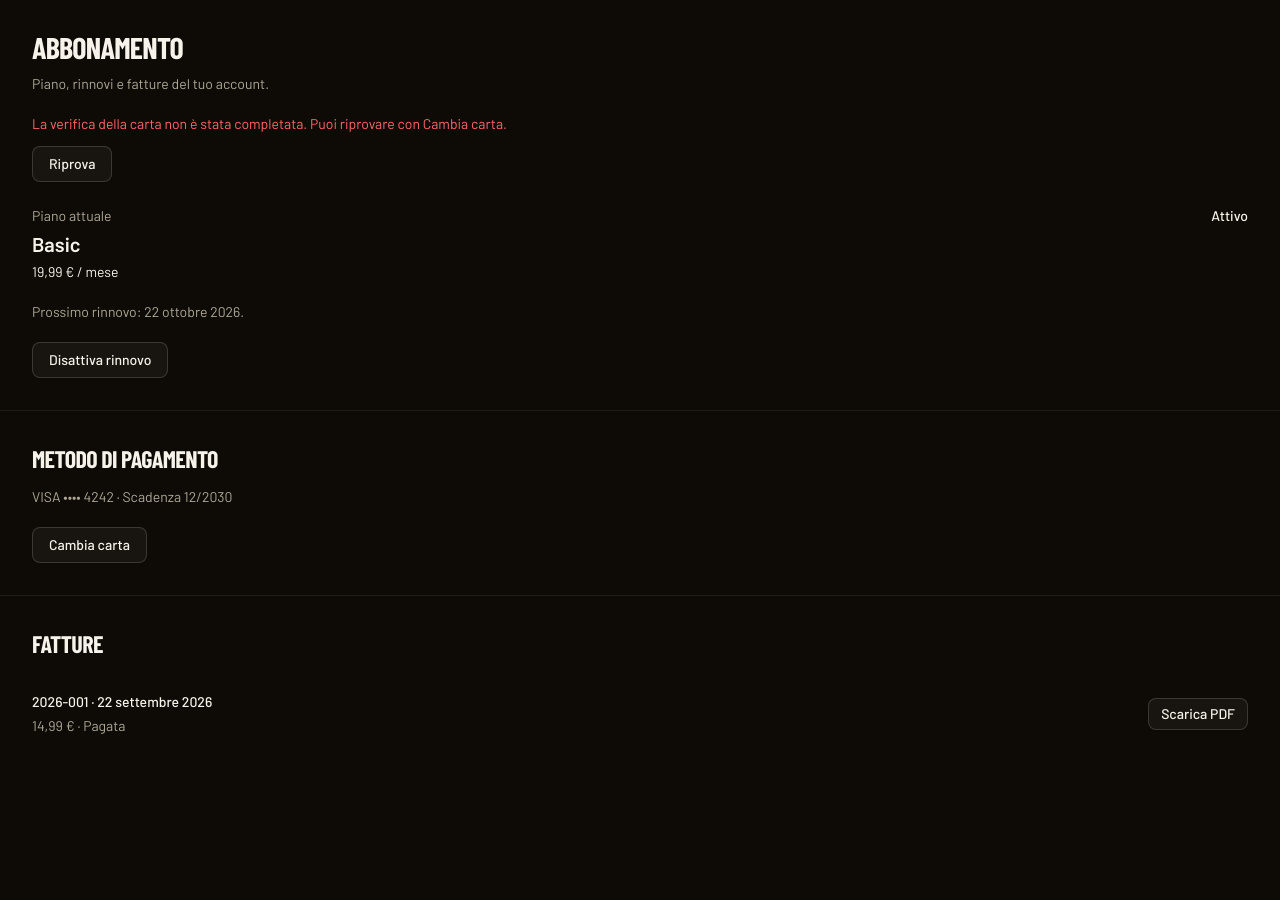
Test case: BillingSection › recovers from a failed card verification return
Expected: the heading "Basic" is shown, x1=32 y1=232 x2=80 y2=256
Expected: the message shows "verifica della carta non è stata completata", x1=32 y1=115 x2=507 y2=132
Step 1. Click the button "Cambia carta" → (89, 545), box x1=32 y1=527 x2=147 y2=563
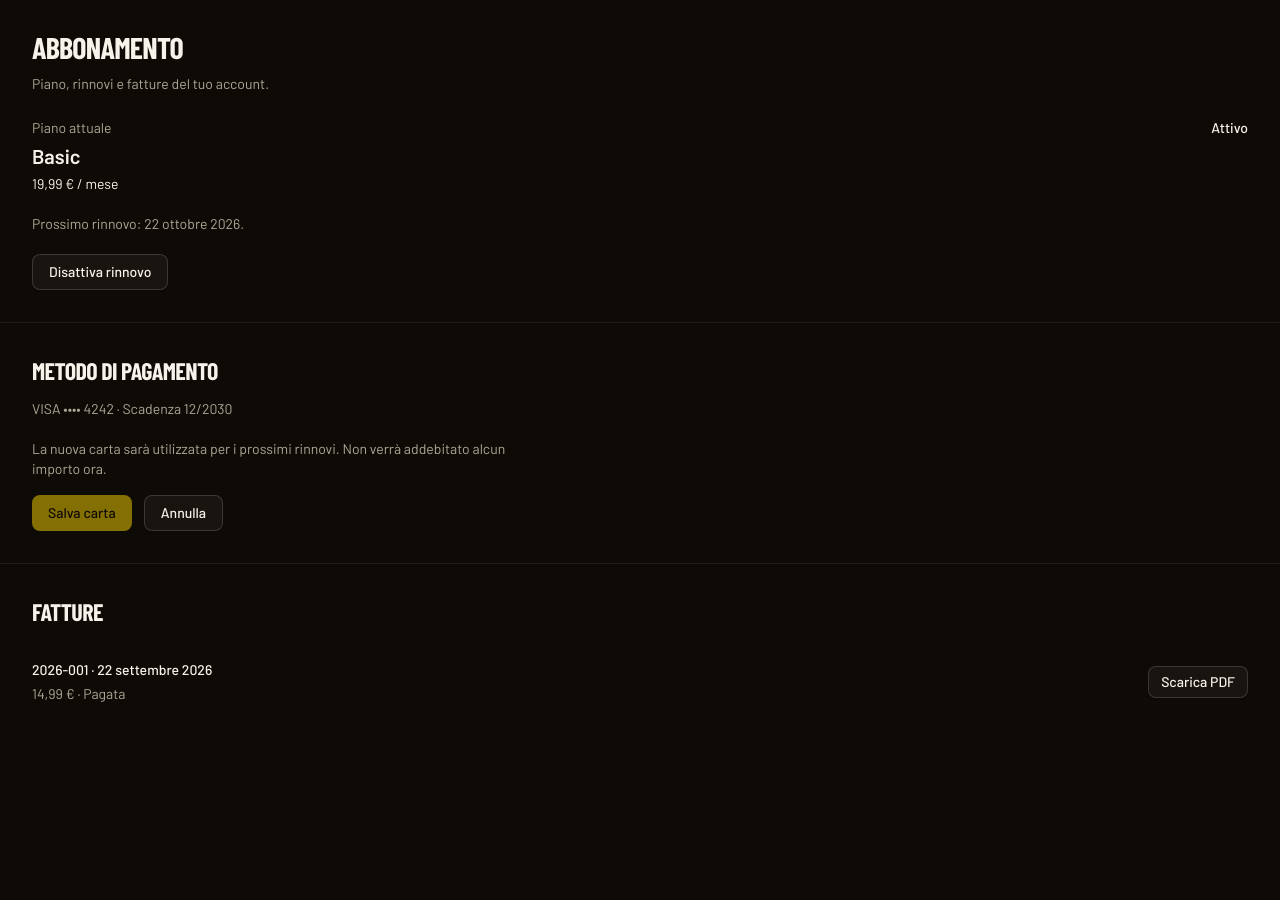
Now the button "Salva carta" is shown, box x1=32 y1=495 x2=132 y2=531
